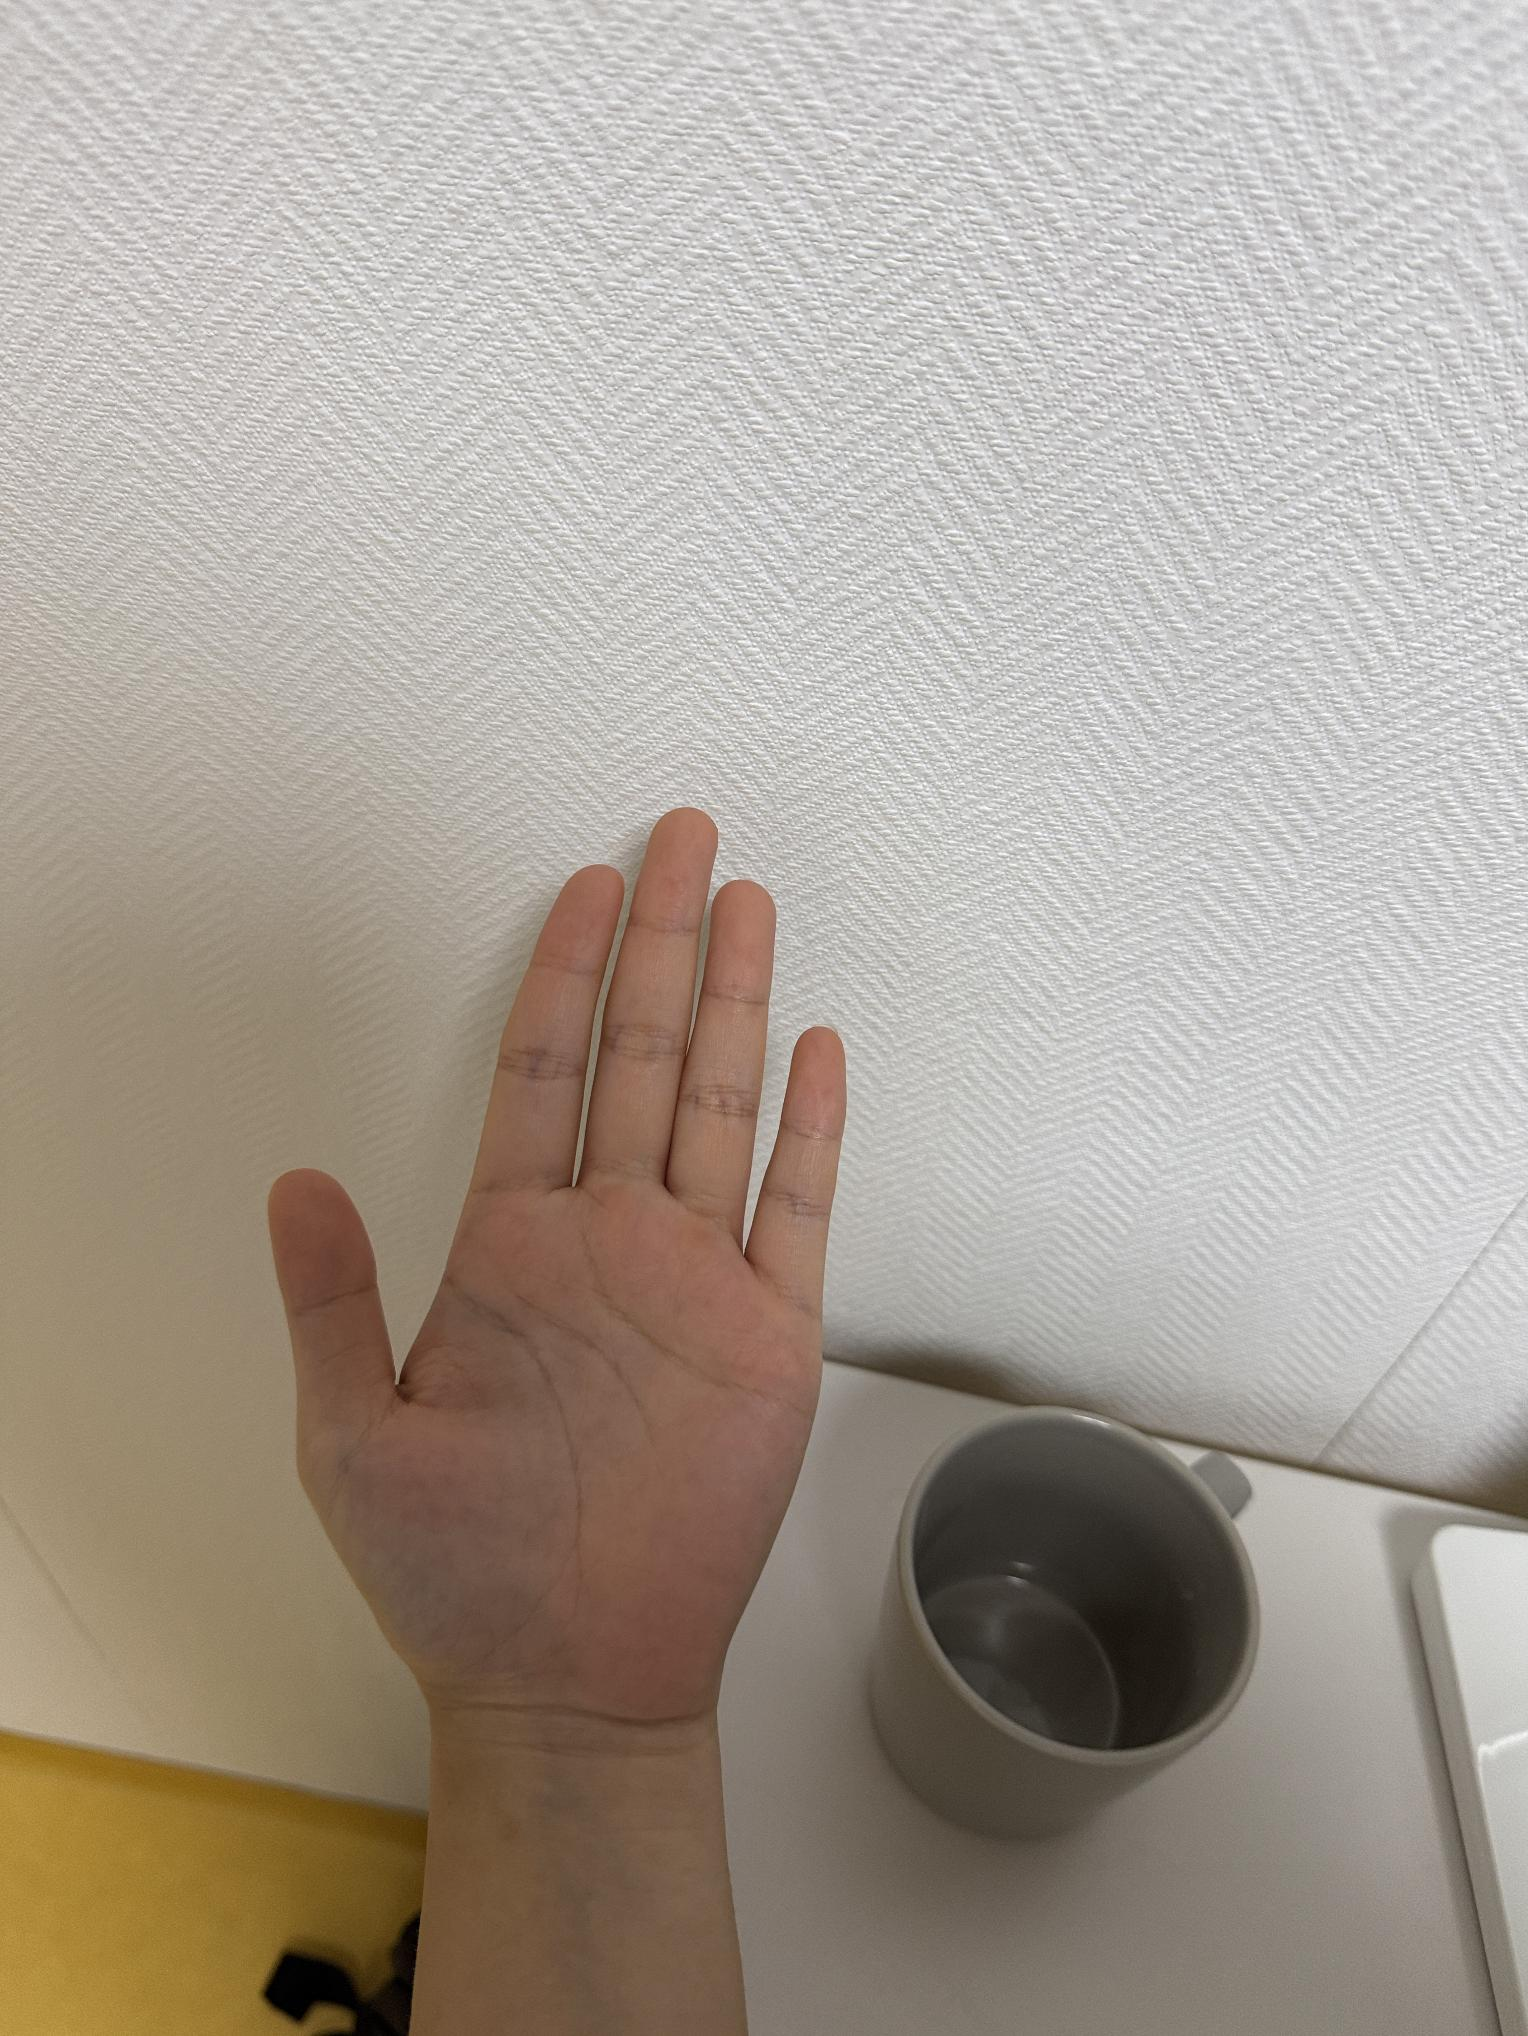open: (238, 788, 876, 1755)
